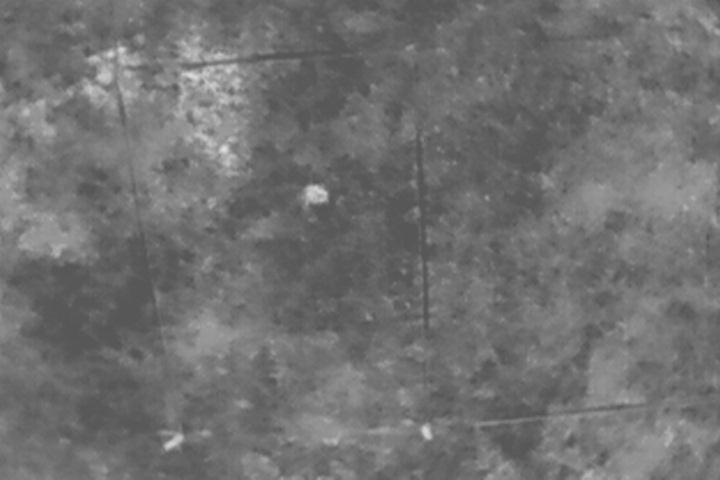landmine: (305, 182, 329, 206)
